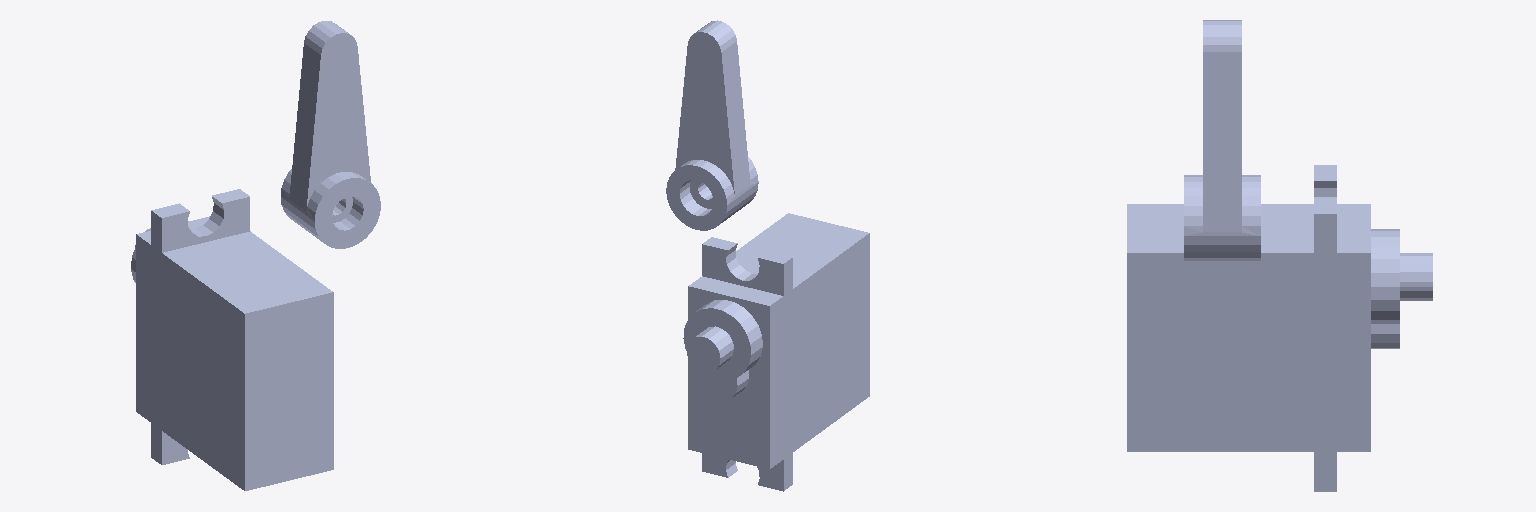
The robot description file, URDF, robot "servo_urdf":
<?xml version="1.0" encoding="utf-8"?>
<!-- This URDF was automatically created by SolidWorks to URDF Exporter! Originally created by [author] ([email redacted]) 
     Commit Version: 1.6.0-1-g15f4949  Build Version: 1.6.7594.29634
     For more information, please see http://wiki.ros.org/sw_urdf_exporter -->
<robot
  name="servo_urdf">
  <link
    name="base_link">
    <inertial>
      <origin
        xyz="0.0117358828374191 0.00600000000000001 0.0136429059031342"
        rpy="0 0 0" />
      <mass
        value="0.00758107050268202" />
      <inertia
        ixx="5.55801688588521E-07"
        ixy="5.03849020909406E-24"
        ixz="-2.52048126365935E-08"
        iyy="8.23810215563623E-07"
        iyz="2.0001944637819E-23"
        izz="4.46540635071146E-07" />
    </inertial>
    <visual>
      <origin
        xyz="0 0 0"
        rpy="0 0 0" />
      <geometry>
        <mesh
          filename="package://servo_urdf/meshes/base_link.STL" />
      </geometry>
      <material
        name="">
        <color
          rgba="0.792156862745098 0.819607843137255 0.933333333333333 1" />
      </material>
    </visual>
    <collision>
      <origin
        xyz="0 0 0"
        rpy="0 0 0" />
      <geometry>
        <mesh
          filename="package://servo_urdf/meshes/base_link.STL" />
      </geometry>
    </collision>
  </link>
  <link
    name="puntero">
    <inertial>
      <origin
        xyz="0.00642596924397514 0 0.00396114262857445"
        rpy="0 0 0" />
      <mass
        value="0.000883356556804291" />
      <inertia
        ixx="7.021421250909E-09"
        ixy="-8.3798647431985E-25"
        ixz="-2.20570840566851E-10"
        iyy="4.97349395150619E-08"
        iyz="-7.16674330152564E-26"
        izz="5.14715814474346E-08" />
    </inertial>
    <visual>
      <origin
        xyz="0 0 0"
        rpy="0 0 0" />
      <geometry>
        <mesh
          filename="package://servo_urdf/meshes/puntero.STL" />
      </geometry>
      <material
        name="">
        <color
          rgba="0.792156862745098 0.819607843137255 0.933333333333333 1" />
      </material>
    </visual>
    <collision>
      <origin
        xyz="0 0 0"
        rpy="0 0 0" />
      <geometry>
        <mesh
          filename="package://servo_urdf/meshes/puntero.STL" />
      </geometry>
    </collision>
  </link>
  <joint
    name="junta"
    type="continuous">
    <origin
      xyz="0.017406 0.006 0.0295"
      rpy="0 0 0" />
    <parent
      link="base_link" />
    <child
      link="puntero" />
    <axis
      xyz="0 0 1" />
  </joint>
</robot>

--- Facts derived from the render (not from the file) ---
3 views of the same robot in one strip: view 1: azimuth 30°, elevation 25°; view 2: azimuth 150°, elevation 25°; view 3: azimuth 270°, elevation 25° (orthographic).
Robot: servo_urdf — 2 links, 1 joints (1 continuous); root link base_link; default pose: all joints at 0.
Visible links, largest first — view 1: base_link, puntero; view 2: base_link, puntero; view 3: base_link, puntero.
Link boxes in pixels (bbox=[...]): base_link: bbox=[131, 189, 333, 490]; puntero: bbox=[281, 21, 380, 248]; base_link: bbox=[683, 213, 869, 491]; puntero: bbox=[666, 20, 758, 230]; base_link: bbox=[1127, 165, 1432, 491]; puntero: bbox=[1184, 20, 1260, 260].
Bounding box of the posed robot: 0.0219 × 0.032 × 0.0565 m (x, y, z).
2 mesh visuals loaded from 2 distinct referenced files (2 binary STL).